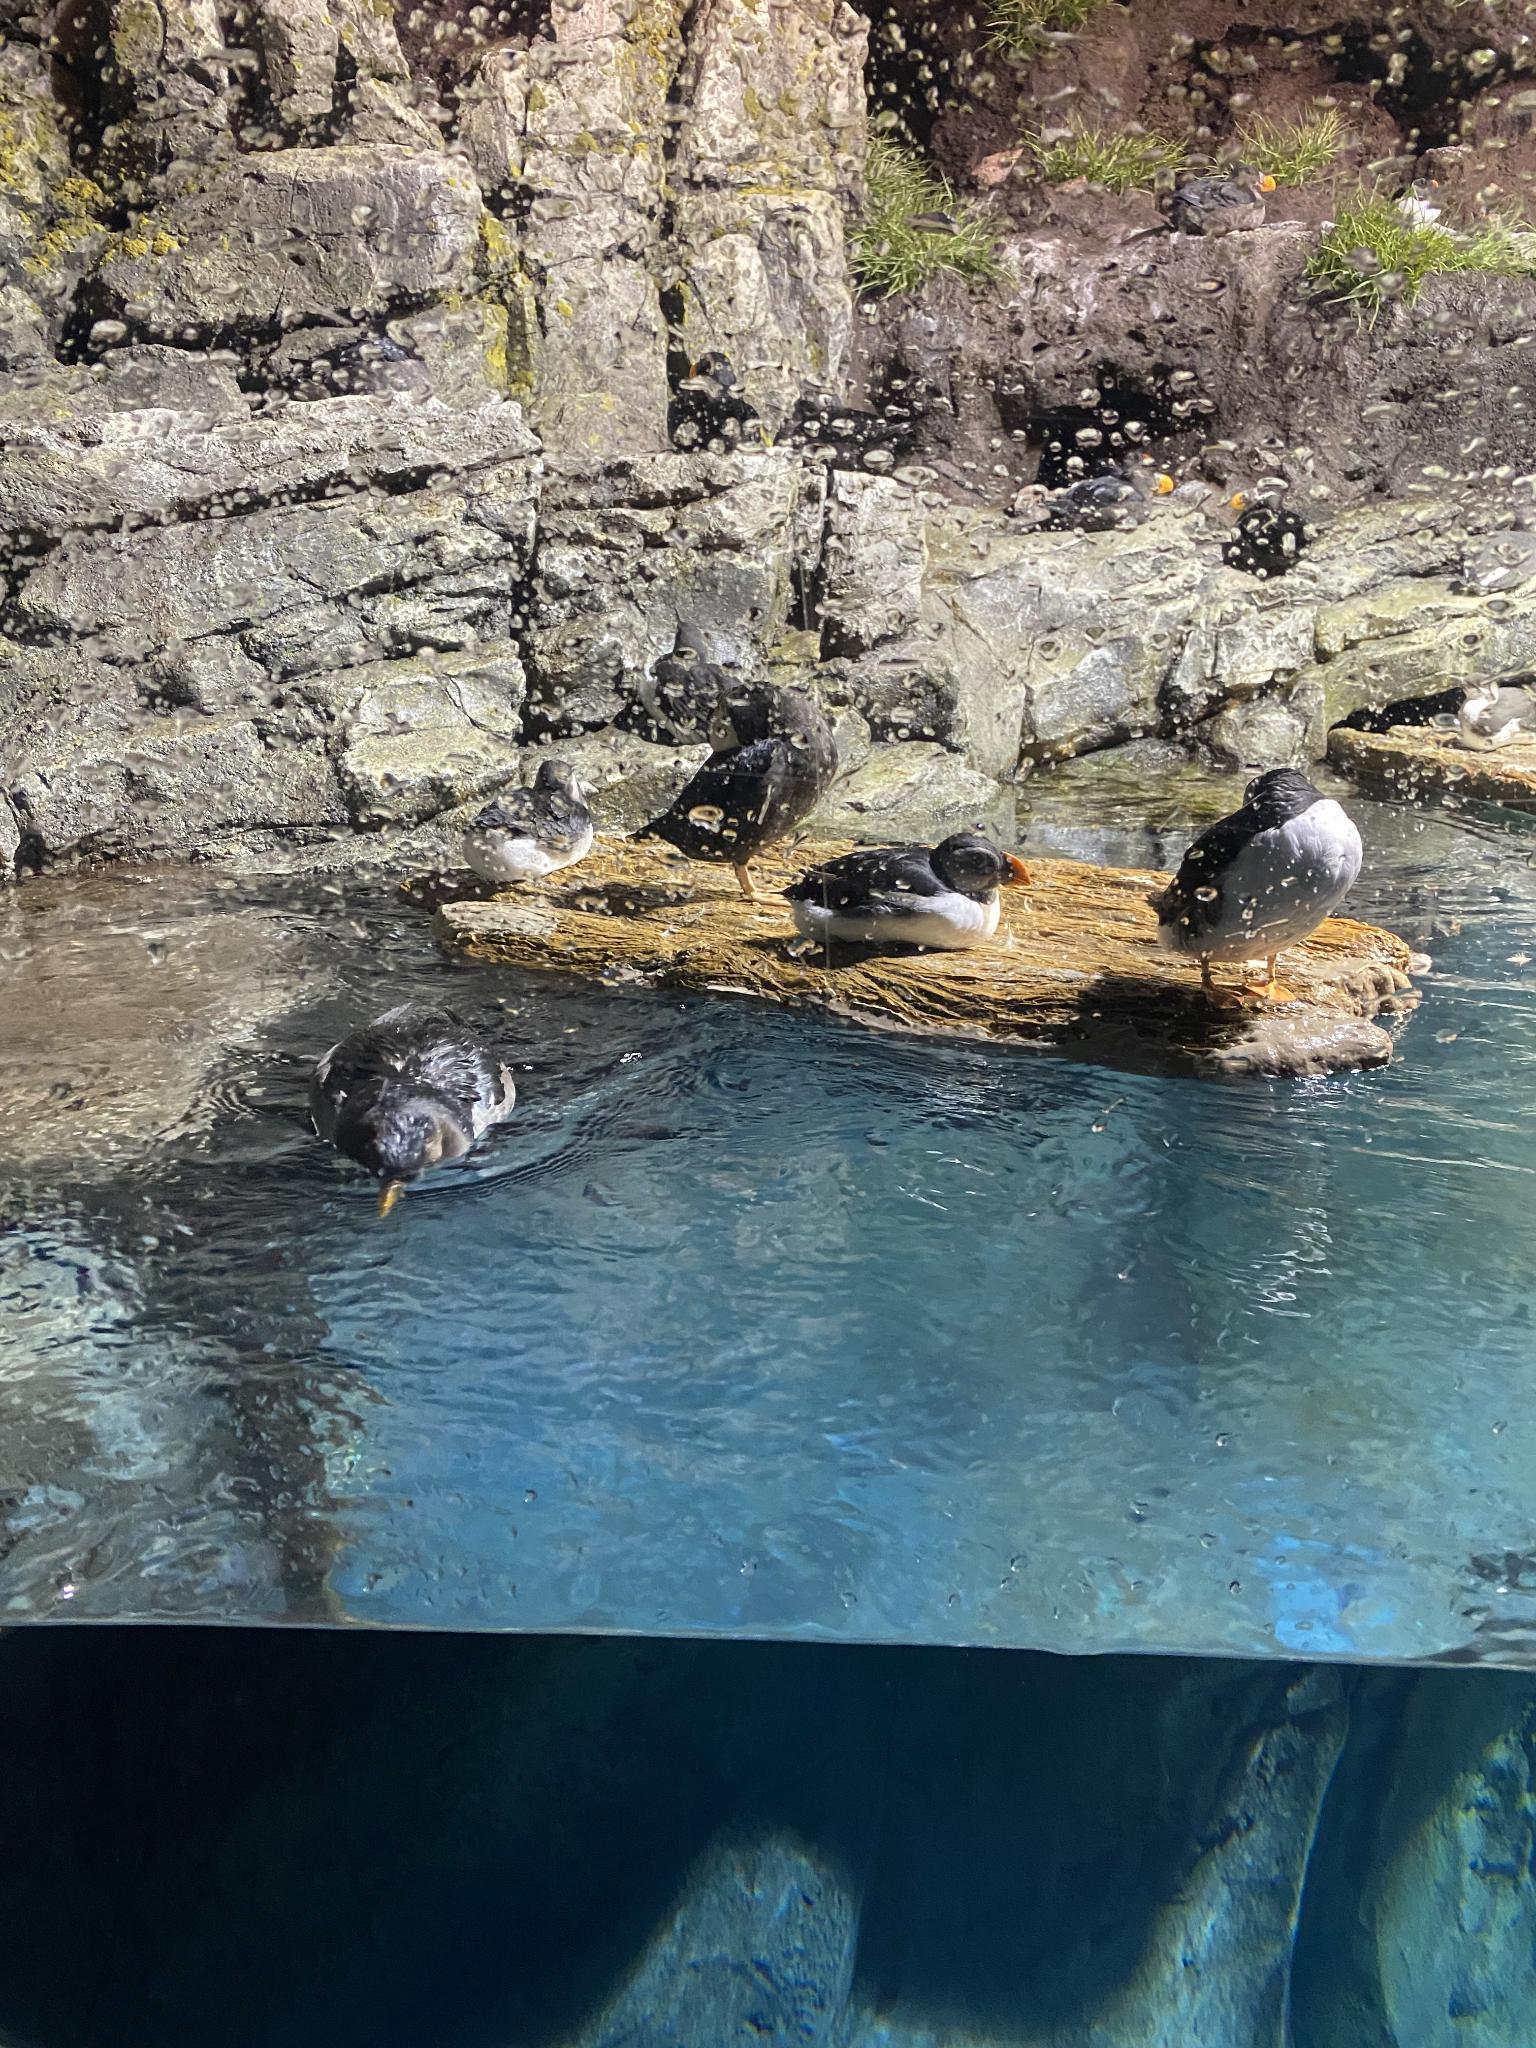puffin: (605, 647, 836, 906), (1152, 764, 1367, 998), (315, 972, 511, 1221), (795, 842, 1029, 971), (1050, 460, 1181, 539), (1163, 168, 1289, 244), (1225, 484, 1292, 581)
